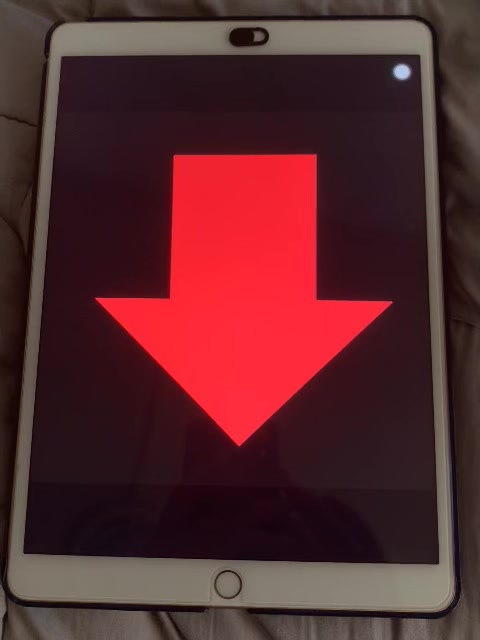down: (93, 146, 396, 449)
